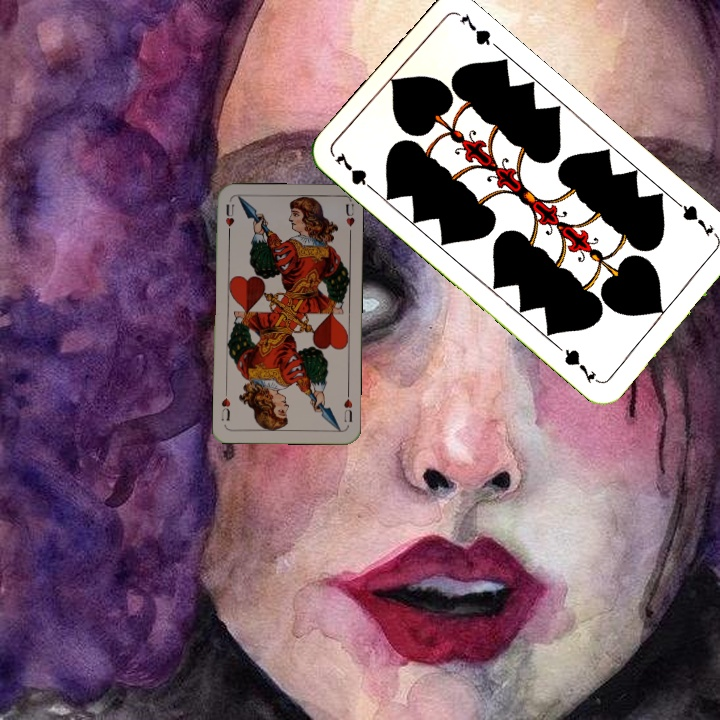G7: (330, 148, 380, 196), (674, 199, 716, 239)
HU: (340, 388, 355, 424), (222, 200, 236, 238)
